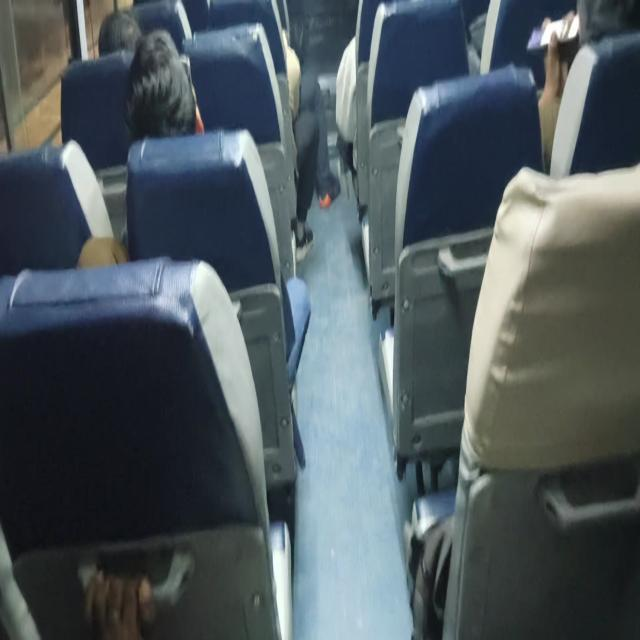person: (135, 31, 207, 125), (568, 0, 640, 46), (92, 1, 140, 46)
